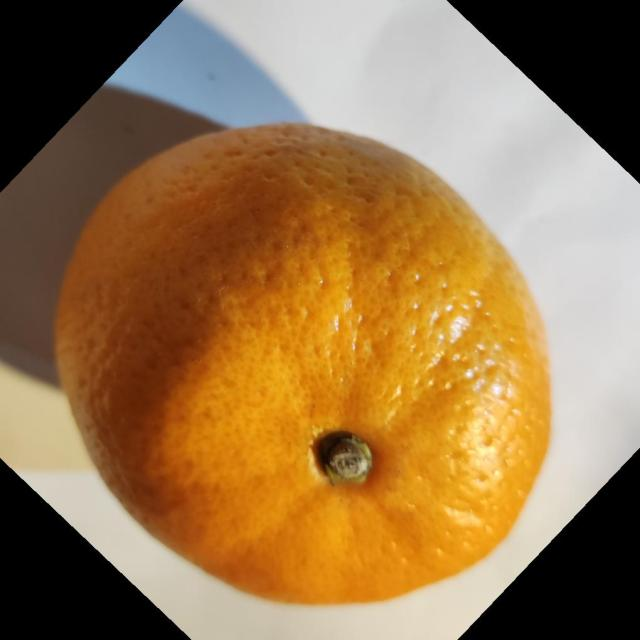fresh orange: (52, 120, 553, 606)
